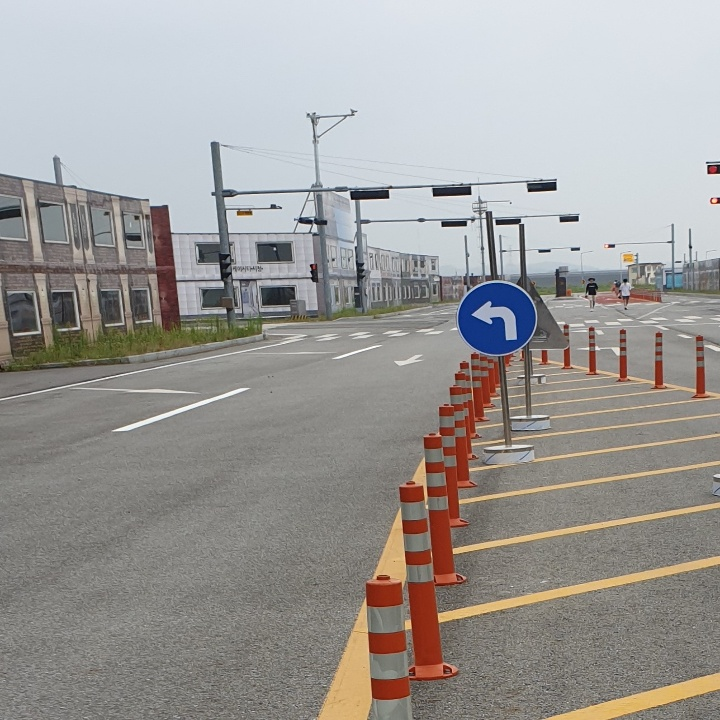left: (468, 291, 526, 348)
